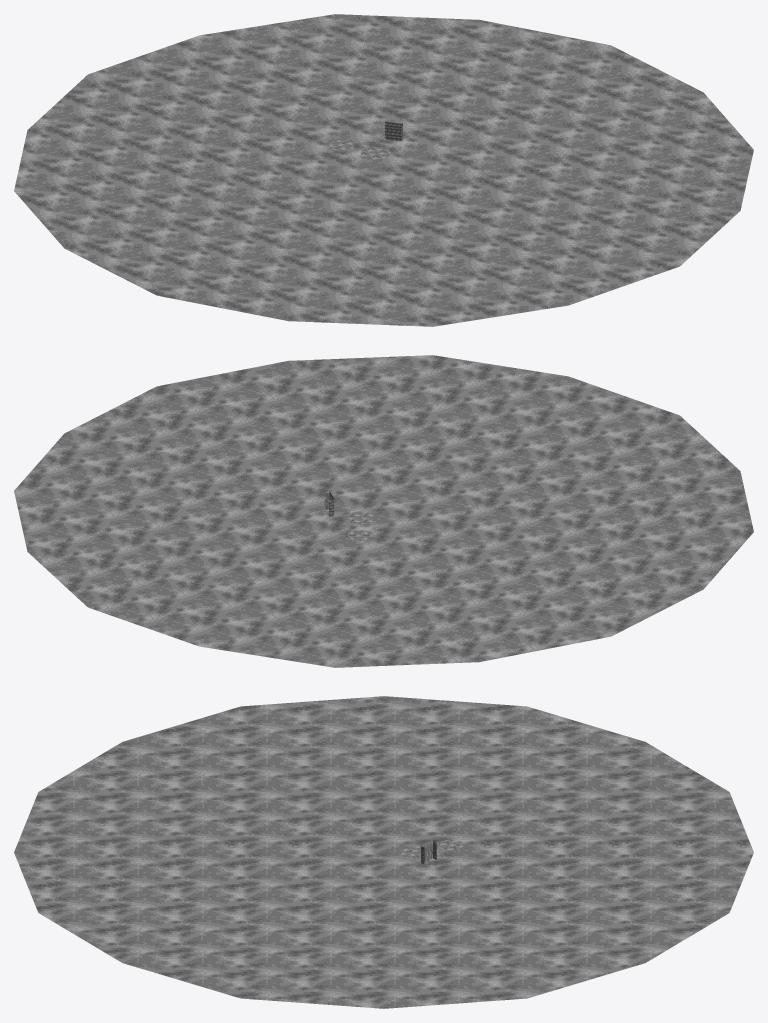
File: seaindirect.dae
3 renders of one model, top to bottom at view 1: azimuth 30°, elevation 25°; view 2: azimuth 150°, elevation 25°; view 3: azimuth 270°, elevation 25°, orthographic.
Parts seen in each view (by area): view 1: m0; view 2: m0; view 3: m0.
Boxes of the visible parts, <box> form: m0: <box>14,14,753,326</box>; m0: <box>14,355,753,667</box>; m0: <box>14,696,753,1008</box>.
Bounding box in the file's own units: 135377 × 4960 × 135377.
